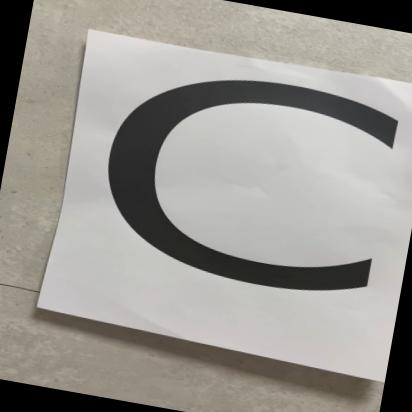seat: (44, 18, 412, 380)
